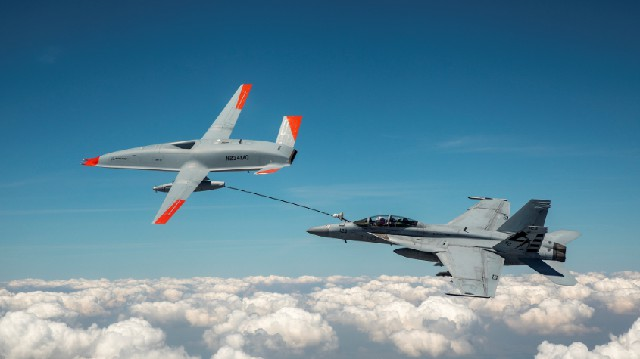maybay_khongnguoilai: (80, 85, 300, 223), (306, 181, 566, 297)
